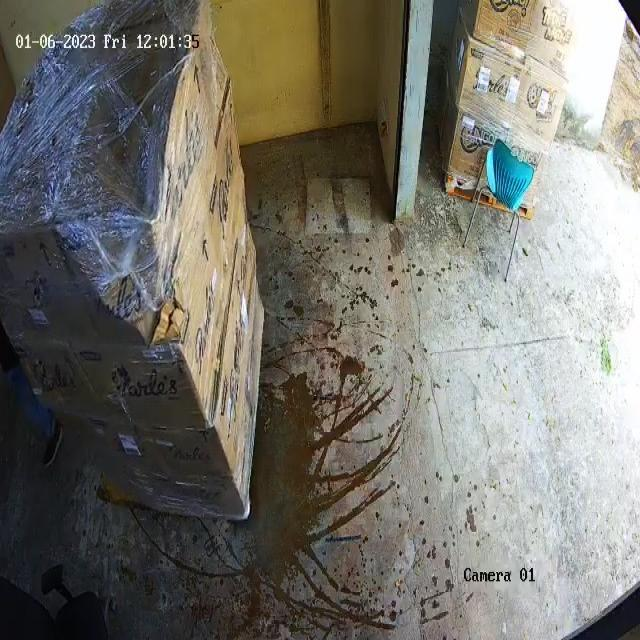leakage: (137, 300, 186, 341), (213, 65, 239, 140)
squeeze: (57, 77, 179, 267)
